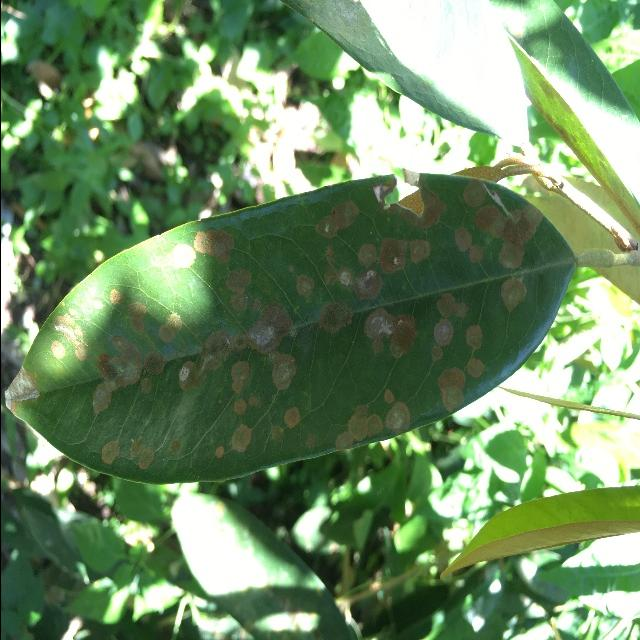Algal Leaf Spot: (0, 167, 585, 487)
